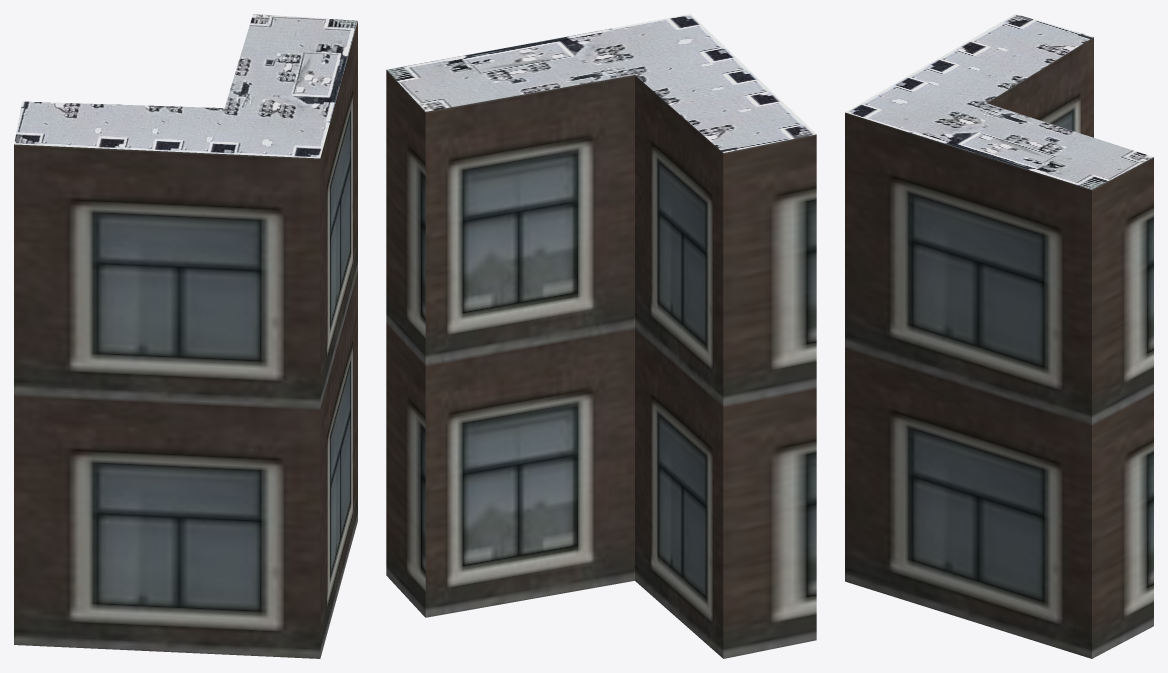
The model's file is ResTex__2902.fbx.
3 views of the same model, side by side, from view 1: azimuth 30°, elevation 25°; view 2: azimuth 150°, elevation 25°; view 3: azimuth 270°, elevation 25° (orthographic). The views are drawn at different scales.
Visible parts, largest first — view 1: CityEngineMaterial_16_m, CityEngineMaterial_15_m; view 2: CityEngineMaterial_16_m, CityEngineMaterial_15_m; view 3: CityEngineMaterial_16_m, CityEngineMaterial_15_m.
Boxes of the visible parts, left/top/right/bottom form: CityEngineMaterial_16_m: left=14, top=21, right=357, bottom=658; CityEngineMaterial_15_m: left=14, top=14, right=357, bottom=158; CityEngineMaterial_16_m: left=386, top=70, right=816, bottom=658; CityEngineMaterial_15_m: left=387, top=14, right=815, bottom=152; CityEngineMaterial_16_m: left=845, top=37, right=1153, bottom=658; CityEngineMaterial_15_m: left=845, top=14, right=1153, bottom=189.
Size of the model in its own units: 4.82 by 6 by 3.58.
Materials: 2 (2 with a texture image).
